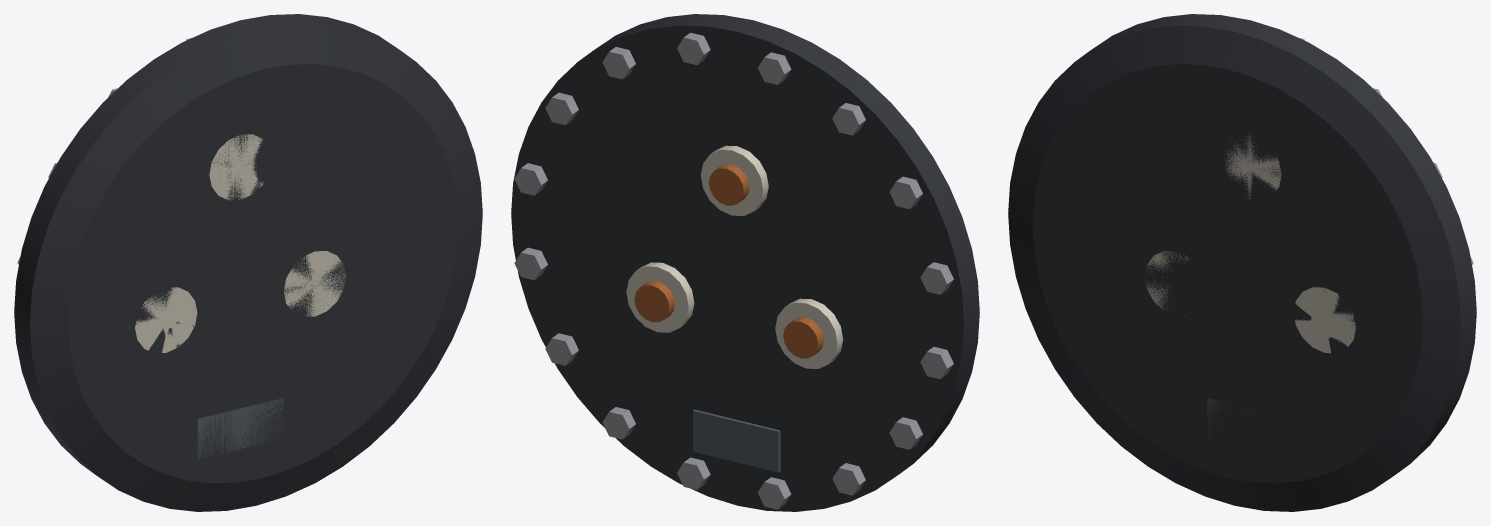
File: s200_flange.obj
3 renders of one model, left to right at view 1: azimuth 30°, elevation 25°; view 2: azimuth 150°, elevation 25°; view 3: azimuth 330°, elevation 25°, orthographic.
Parts seen in each view (by area): view 1: s200_flange; view 2: s200_flange; view 3: s200_flange.
Boxes of the visible parts, x1=… form: s200_flange: x1=14, y1=14, x2=482, y2=511; s200_flange: x1=511, y1=14, x2=979, y2=511; s200_flange: x1=1008, y1=14, x2=1476, y2=511.
Bounding box in the file's own units: 1.16 × 1.16 × 0.15.
